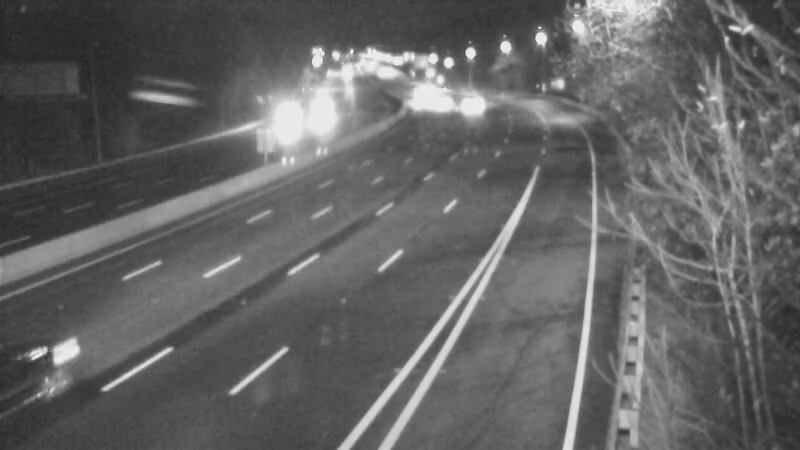vehicle: (418, 76, 468, 126), (399, 74, 449, 124), (441, 80, 491, 130), (263, 93, 313, 143)
